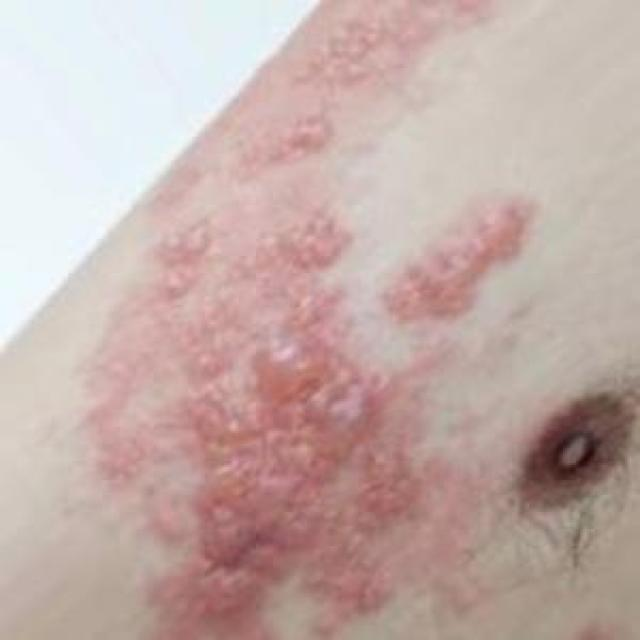Shingles: (92, 25, 526, 620)
